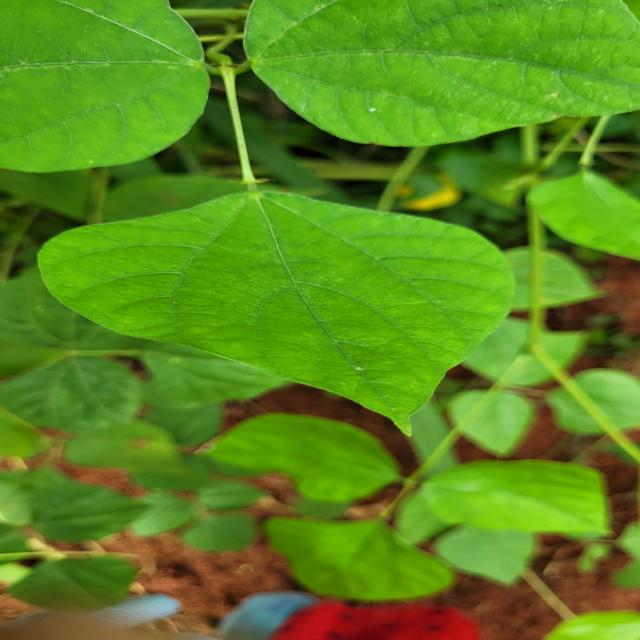Dolicos bean_healthy: (37, 194, 515, 435), (232, 0, 640, 149), (3, 0, 212, 173), (274, 503, 458, 603), (418, 453, 614, 542), (198, 409, 393, 498), (559, 364, 640, 441), (443, 390, 538, 450)
